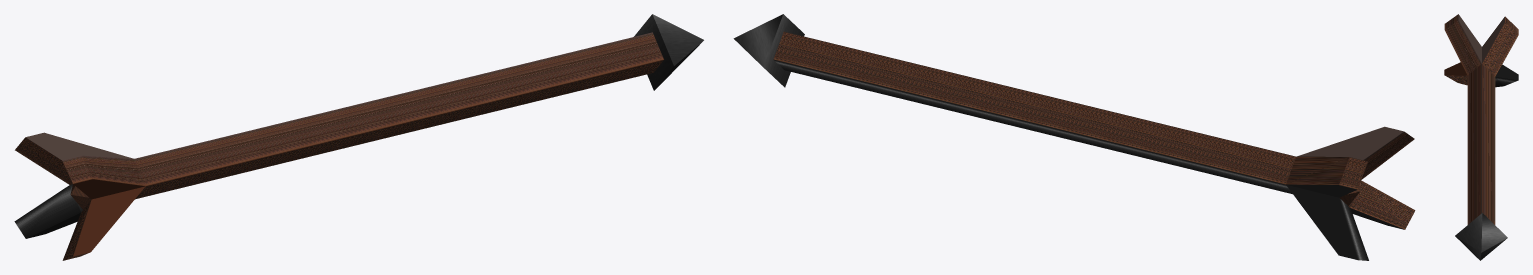
Rendered from Arrow.obj.
The picture shows the model from 3 angles, left to right: view 1: azimuth 30°, elevation 25°; view 2: azimuth 150°, elevation 25°; view 3: azimuth 270°, elevation 25°; orthographic projection. The views are drawn at different scales.
Parts seen in each view (by area): view 1: Cube; view 2: Cube; view 3: Cube.
Part boxes in pixels (x1,y1,x2,y2): Cube: [14, 14, 703, 260]; Cube: [733, 14, 1415, 260]; Cube: [1444, 14, 1518, 260].
Bounding box in the file's own units: 25.74 × 3.9 × 3.94.
